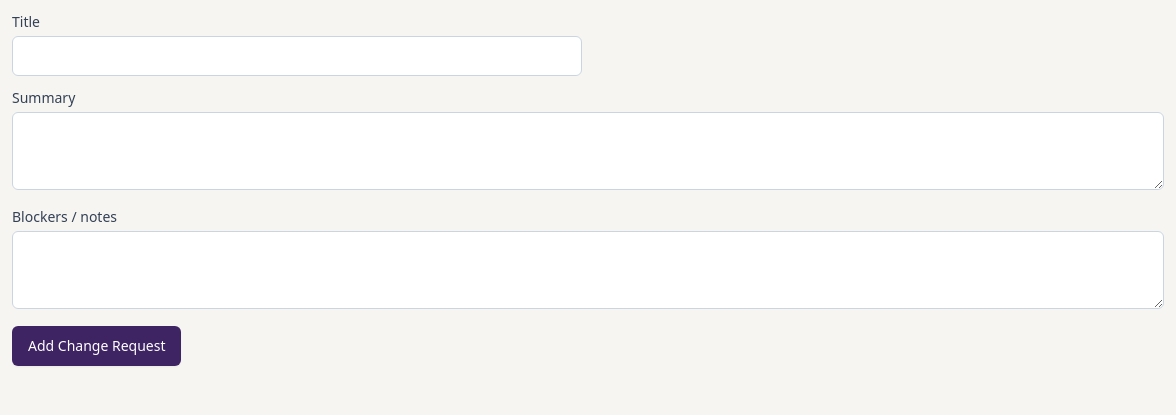
Scenario: project actions › shows a friendly error and clears loading after failure
Type "Scope Variation" into the field labelled "Title" at (297, 56), box [12, 36, 582, 76]
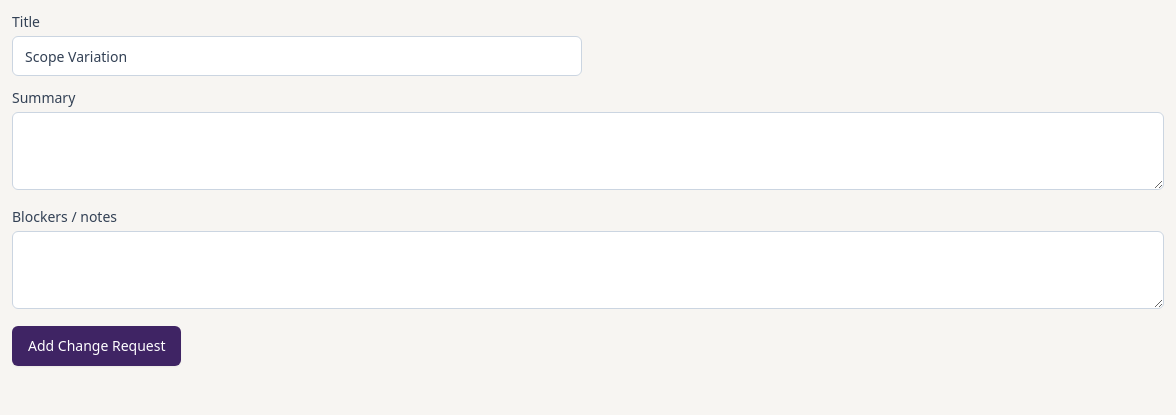
Submit the form "Add Change Request"
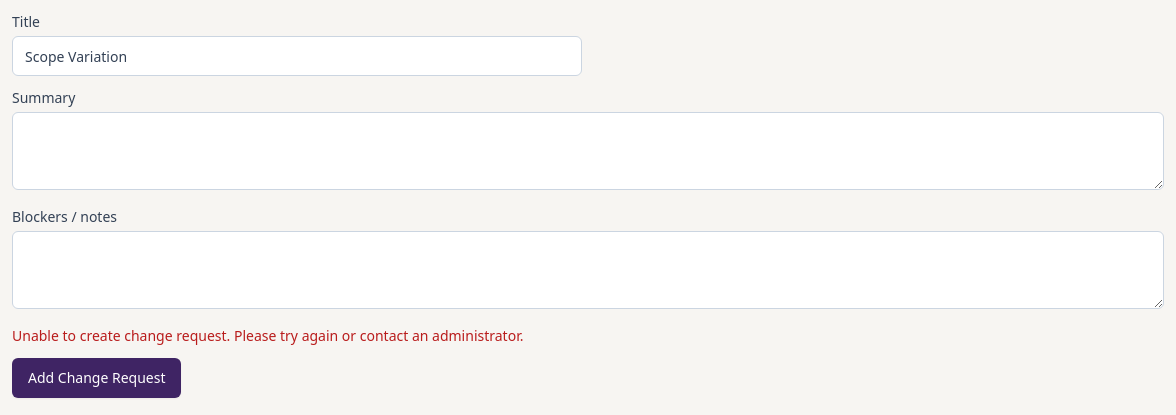
Expected: the button "Add Change Request" is shown, [12, 358, 182, 398]
Now the text "Unable to create change request. Please try again or contact an administrator." is shown, box [12, 326, 523, 345]
